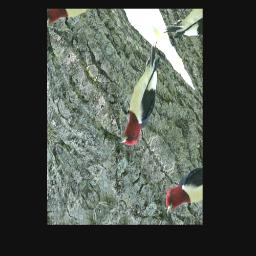Woodpecker: (94, 32, 188, 162)
